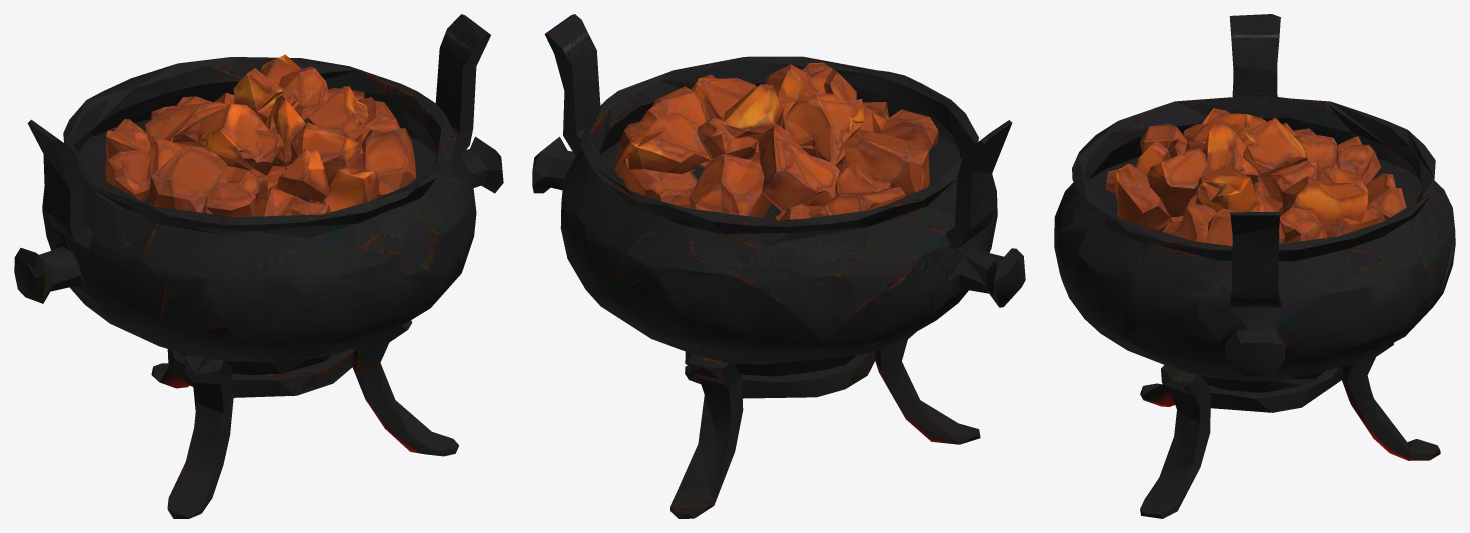
The model's file is brazier.glb.
3 views of the same model, side by side, from view 1: azimuth 30°, elevation 25°; view 2: azimuth 150°, elevation 25°; view 3: azimuth 270°, elevation 25° (orthographic). The views are drawn at different scales.
Visible parts, largest first — view 1: output_unwrapped; view 2: output_unwrapped; view 3: output_unwrapped.
Part boxes in pixels (x1=…): output_unwrapped: x1=14, y1=14, x2=503, y2=518; output_unwrapped: x1=532, y1=14, x2=1025, y2=518; output_unwrapped: x1=1054, y1=14, x2=1455, y2=518.
Size of the model in its own units: 1.88 by 1.42 by 1.5.
1 material, 1 textured.
